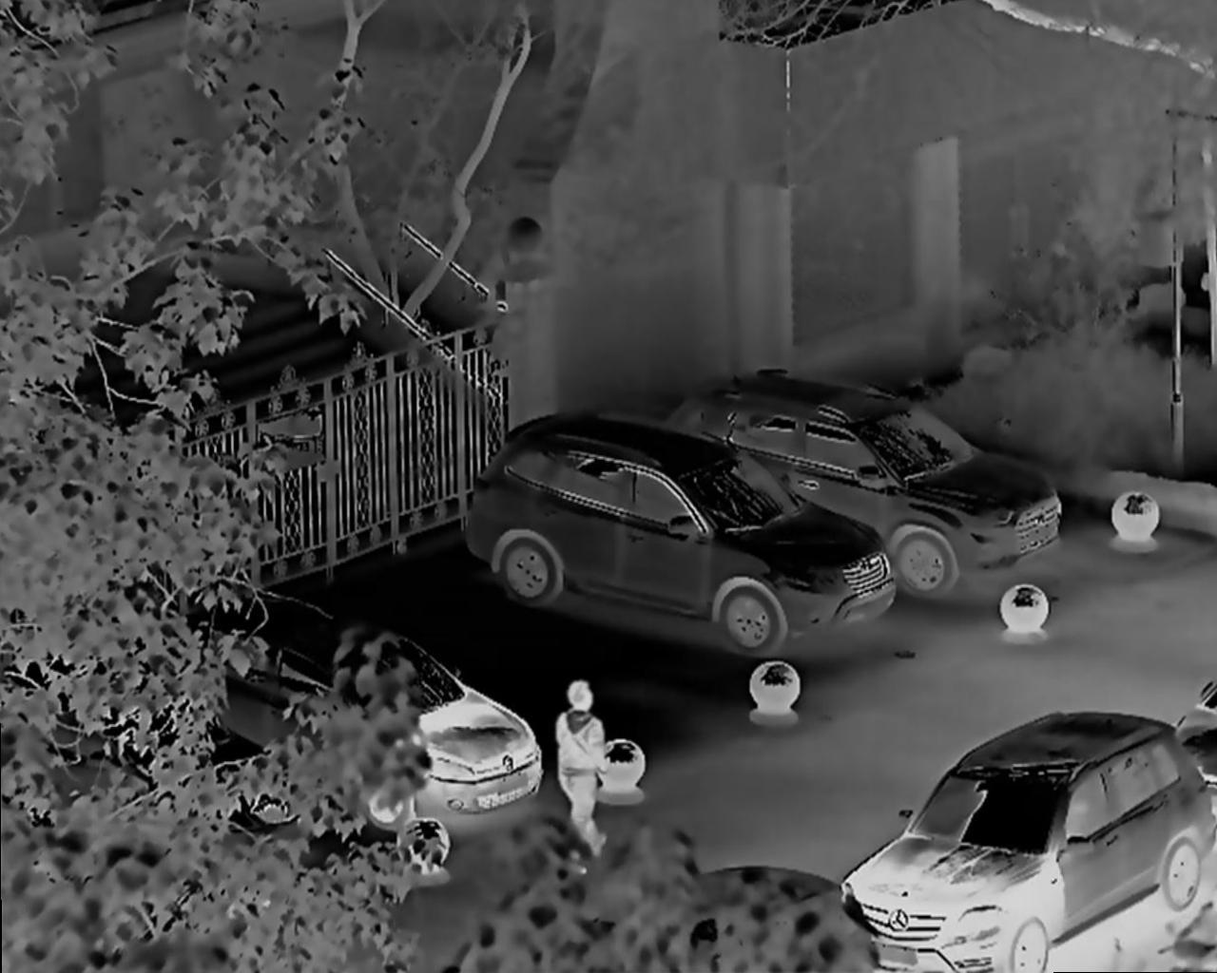person: (551, 676, 639, 849)
